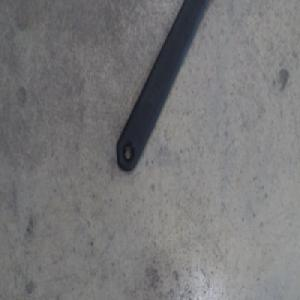AdjustableWrench: (116, 0, 210, 171)
